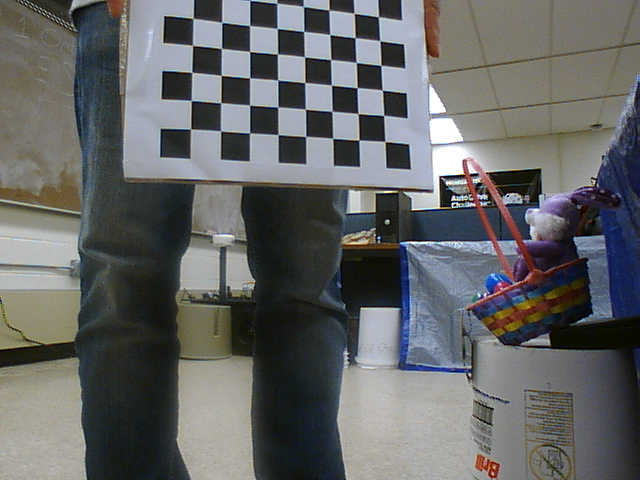bunny: (452, 153, 596, 346)
